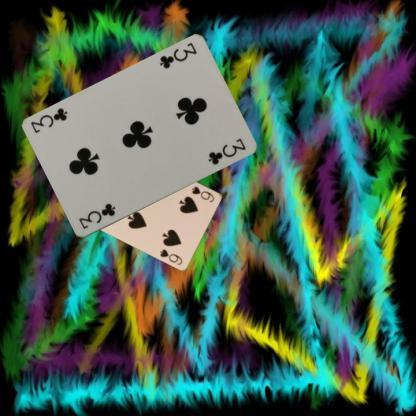3c: (156, 40, 198, 70), (76, 200, 116, 230)
6s: (188, 184, 216, 204)
